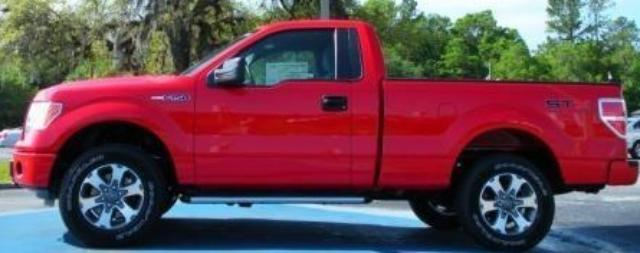pickup-truck: (11, 19, 639, 252)
